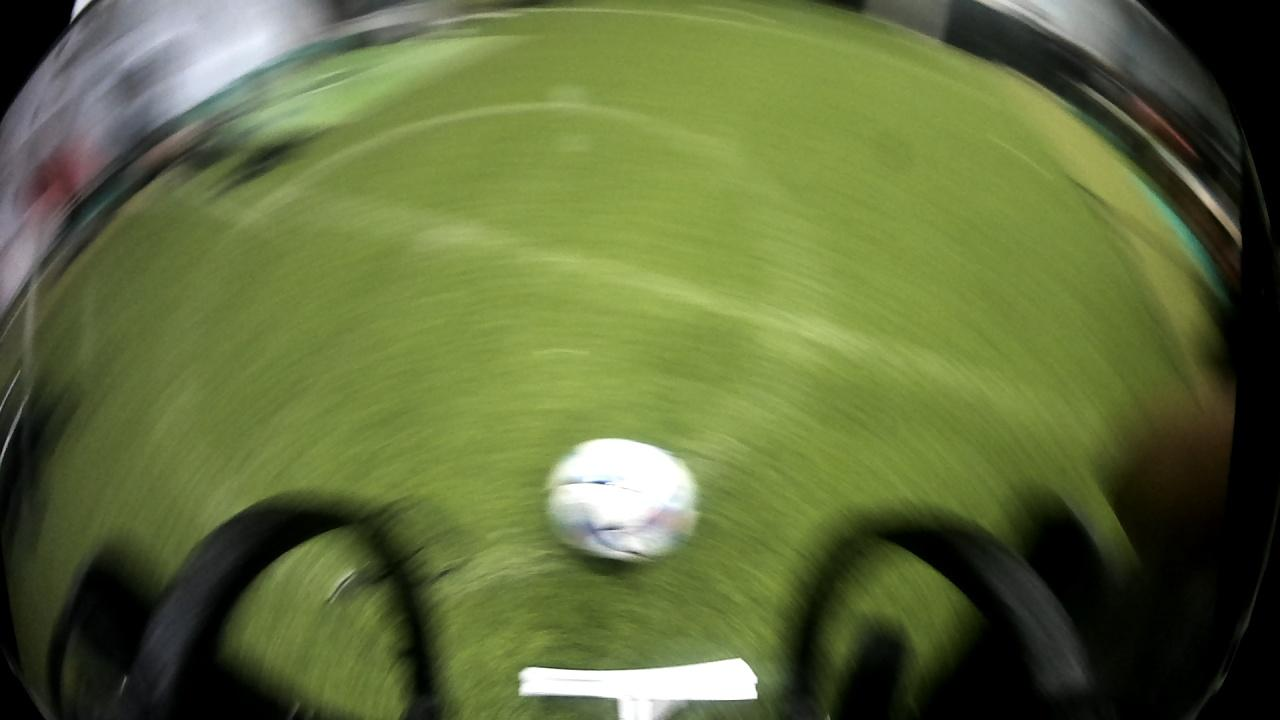ball: (547, 436, 699, 570)
